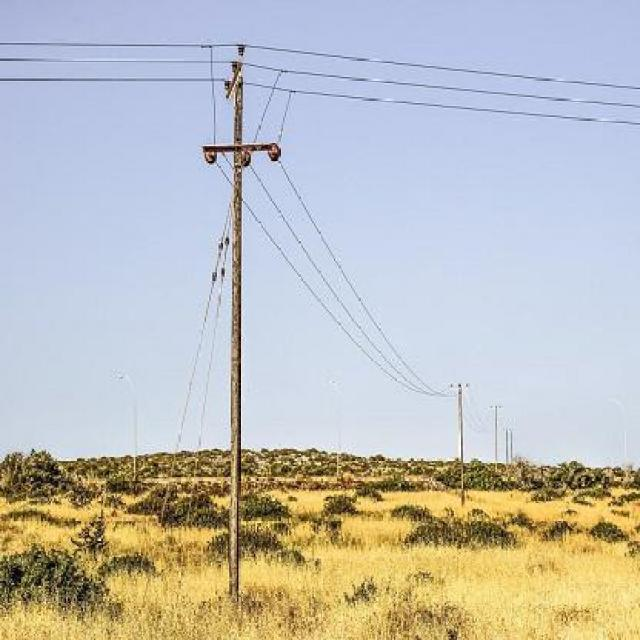pole: (190, 35, 292, 591)
